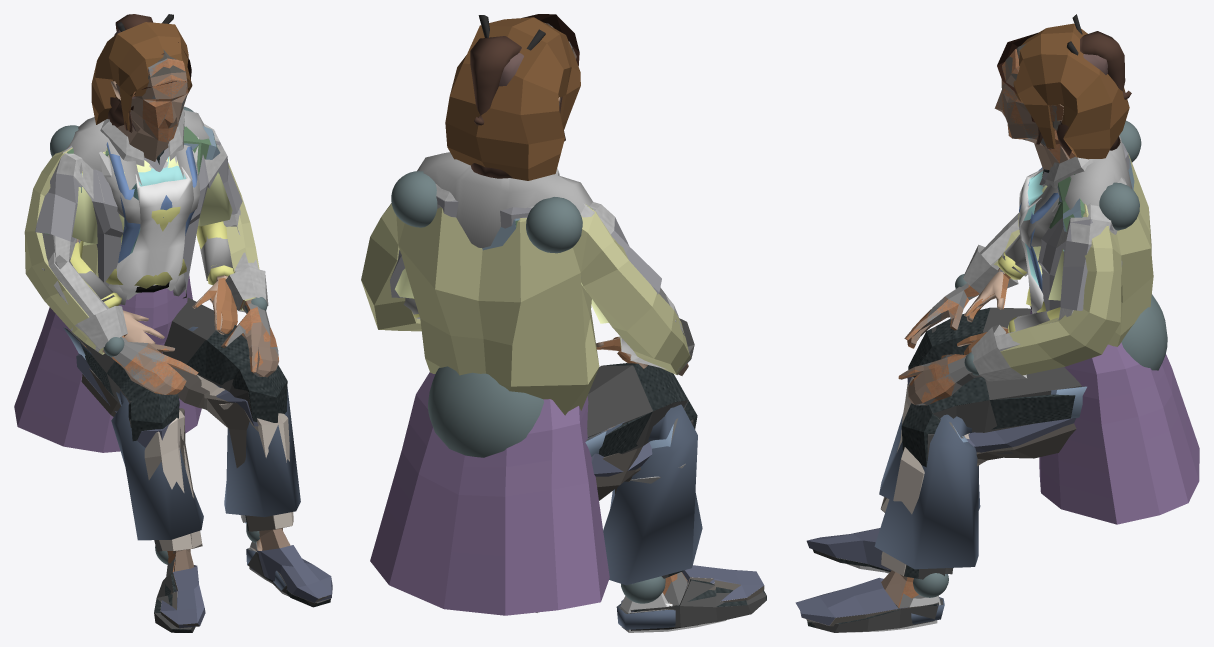
Rendered from sitted_people.glb.
The picture shows the model from 3 angles, left to right: view 1: azimuth 30°, elevation 25°; view 2: azimuth 150°, elevation 25°; view 3: azimuth 270°, elevation 25°; orthographic projection. The views are drawn at different scales.
Parts seen in each view (by area): view 1: Business man.001, Child, MC 50s, Husband 30s.001, Male Customer.001, Husband 30s, MC 20s, MC 18, Male Customer, female, bolas; view 2: Child, Husband 30s.001, MC 50s, bolas, Male Customer.001, Business man.001, female, Husband 30s, MC 18; view 3: Child, Business man.001, MC 50s, Husband 30s.001, Male Customer.001, Husband 30s, bolas, female, Male Customer, MC 18, MC 20s.
Boxes of the visible parts, bbox=[...] form: Business man.001: bbox=[42, 58, 330, 632]; Child: bbox=[14, 22, 289, 596]; MC 50s: bbox=[65, 14, 300, 590]; Husband 30s.001: bbox=[24, 49, 330, 627]; Male Customer.001: bbox=[35, 58, 330, 632]; Husband 30s: bbox=[44, 42, 332, 628]; MC 20s: bbox=[67, 53, 276, 586]; MC 18: bbox=[72, 81, 286, 593]; Male Customer: bbox=[120, 53, 330, 610]; female: bbox=[63, 14, 248, 549]; bolas: bbox=[50, 106, 267, 564]; Child: bbox=[370, 17, 726, 632]; Husband 30s.001: bbox=[361, 23, 764, 611]; MC 50s: bbox=[403, 15, 702, 585]; bolas: bbox=[391, 171, 665, 603]; Male Customer.001: bbox=[390, 26, 766, 627]; Business man.001: bbox=[435, 42, 766, 611]; female: bbox=[412, 36, 675, 629]; Husband 30s: bbox=[515, 14, 764, 612]; MC 18: bbox=[395, 96, 698, 630]; Child: bbox=[846, 23, 1199, 632]; Business man.001: bbox=[807, 49, 1126, 627]; MC 50s: bbox=[874, 14, 1132, 569]; Husband 30s.001: bbox=[829, 43, 1153, 626]; Male Customer.001: bbox=[806, 66, 1129, 632]; Husband 30s: bbox=[795, 32, 1084, 625]; bolas: bbox=[913, 120, 1167, 597]; female: bbox=[911, 31, 1131, 624]; Male Customer: bbox=[802, 33, 1134, 625]; MC 18: bbox=[964, 104, 1120, 328]; MC 20s: bbox=[945, 44, 1083, 574].
Size of the model in its own units: 1.22 by 2.7 by 1.74.
50 materials, 4 textured.
